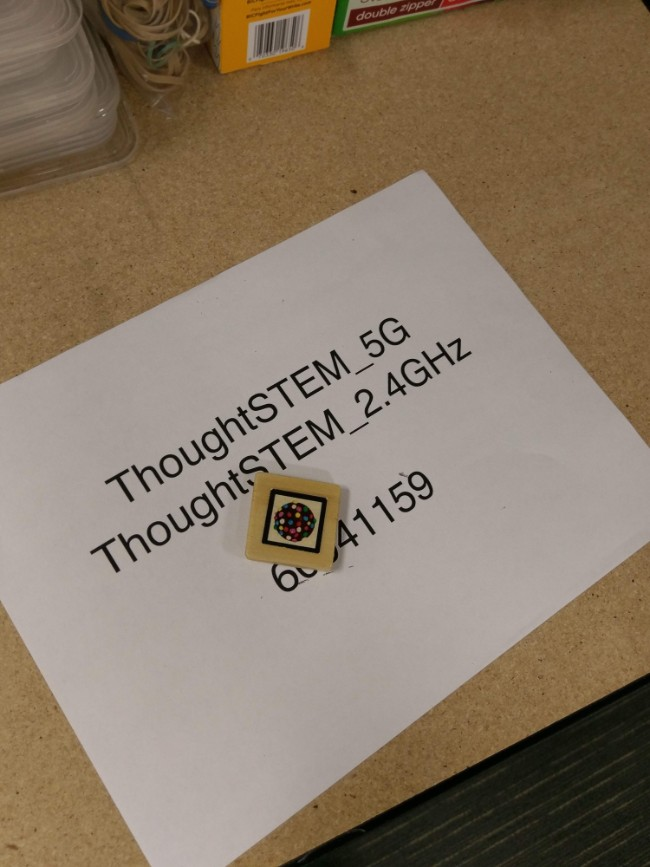cookie: (271, 489, 326, 553)
